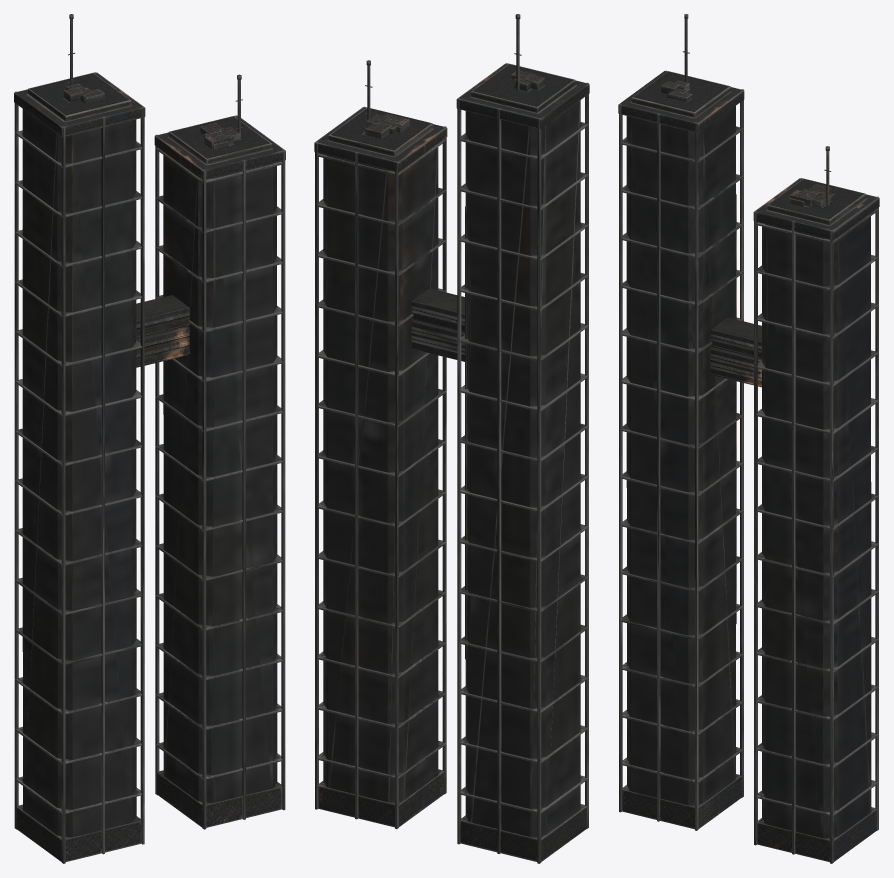
File: heatsink_thermalTowerTIron.c7800e77.glb
The picture shows the model from 3 angles, left to right: view 1: azimuth 30°, elevation 25°; view 2: azimuth 150°, elevation 25°; view 3: azimuth 330°, elevation 25°; orthographic projection. The views are drawn at different scales.
Bounding box in the file's own units: 0.5748 × 2 × 0.2175.
1 material, 1 textured.
